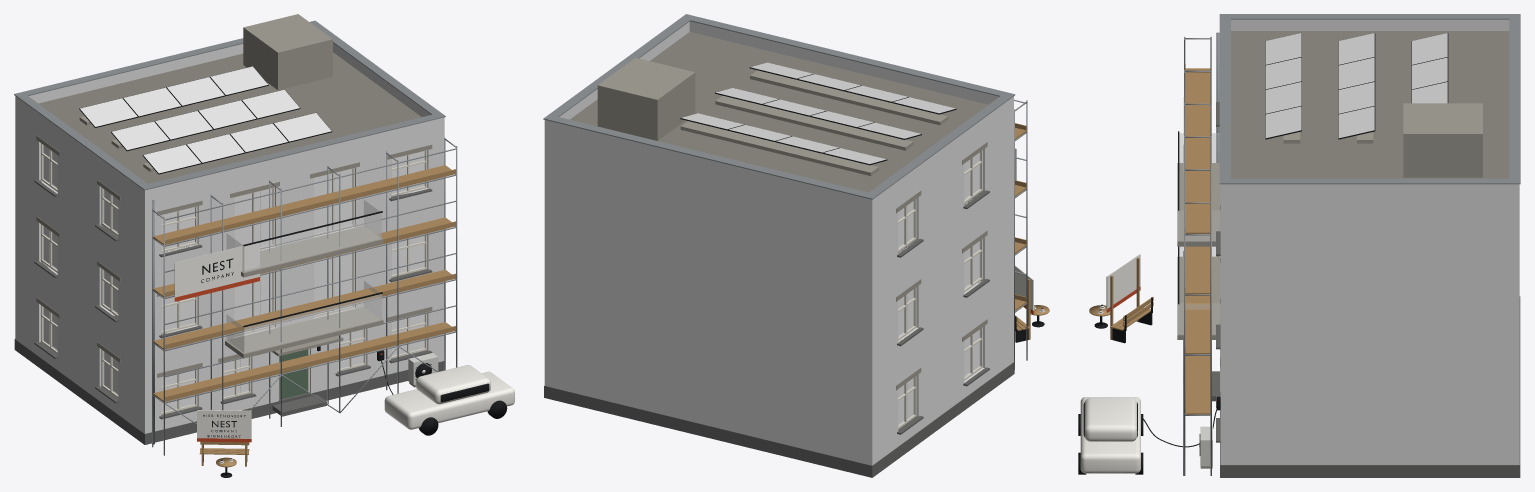
File: appartement.glb
3 renders of one model, left to right at view 1: azimuth 30°, elevation 25°; view 2: azimuth 150°, elevation 25°; view 3: azimuth 270°, elevation 25°, orthographic. The views are drawn at different scales.
Visible parts, largest first — view 1: romp, platdak, liftkoker, plint, opstand, balustrade, balustrade.003, balkon, wagen, doek, balkon.001, vloer (+45 smaller); view 2: romp, platdak, liftkoker, plint, opstand.001, opstand, dakrand.001, dakrand, ballast, ballast.001, ballast.002, opstand.002 (+3 smaller); view 3: romp, platdak, liftkoker, plint, vloer.003, opstand.003, opstand.002, wagen, wagen_dak, dakrand, dakrand.001, dakrand.003 (+23 smaller).
Part boxes in pixels (box(x1,y1,x2,y2)): romp: box(15, 107, 444, 433); platdak: box(38, 52, 421, 183); liftkoker: box(243, 14, 332, 90); plint: box(14, 339, 444, 444); opstand: box(141, 117, 444, 201); balustrade: box(244, 294, 381, 352); balustrade.003: box(244, 213, 381, 271); balkon: box(225, 307, 383, 358); wagen: box(384, 371, 514, 429); doek: box(174, 242, 259, 301); balkon.001: box(241, 226, 383, 277); vloer: box(153, 322, 455, 401); romp: box(544, 108, 1013, 465); platdak: box(570, 32, 988, 192); liftkoker: box(597, 57, 695, 140); plint: box(544, 361, 1014, 477); opstand.001: box(544, 120, 876, 211); opstand: box(689, 21, 1013, 110); dakrand.001: box(543, 114, 877, 199); dakrand: box(681, 14, 1014, 97); ballast: box(750, 70, 948, 125); ballast.001: box(715, 96, 913, 150); ballast.002: box(680, 121, 878, 175); opstand.002: box(864, 100, 1013, 210); romp: box(1220, 197, 1519, 464); platdak: box(1231, 31, 1509, 178); liftkoker: box(1403, 103, 1482, 177); plint: box(1220, 296, 1520, 477); vloer.003: box(1185, 68, 1210, 233); opstand.003: box(1220, 184, 1519, 197); opstand.002: box(1231, 19, 1509, 30); wagen: box(1080, 397, 1140, 473); wagen_dak: box(1084, 398, 1137, 441); dakrand: box(1219, 14, 1230, 184); dakrand.001: box(1509, 14, 1520, 184); dakrand.003: box(1220, 178, 1520, 184).
Size of the model in its own units: 12.59 by 10.95 by 13.31.
